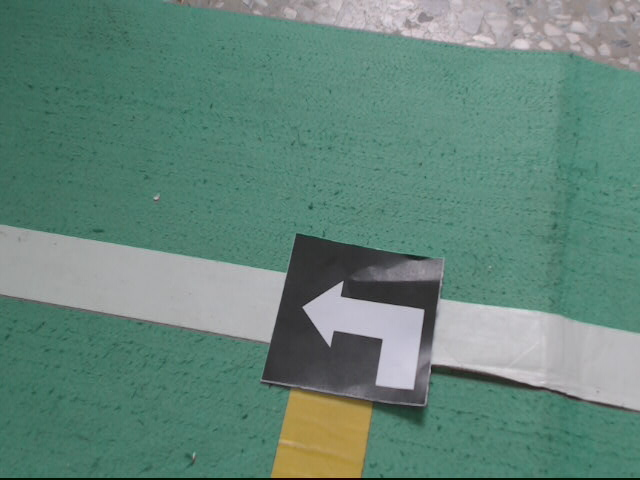left: (257, 230, 446, 411)
